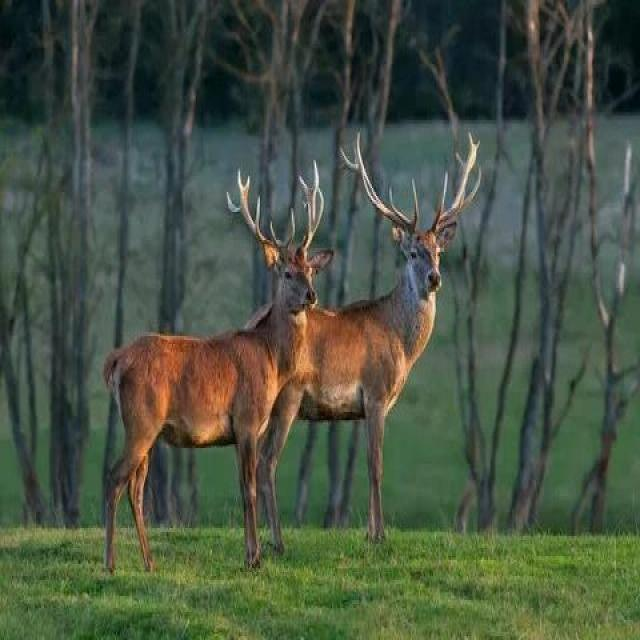deer: (80, 178, 368, 558), (264, 127, 476, 464)
